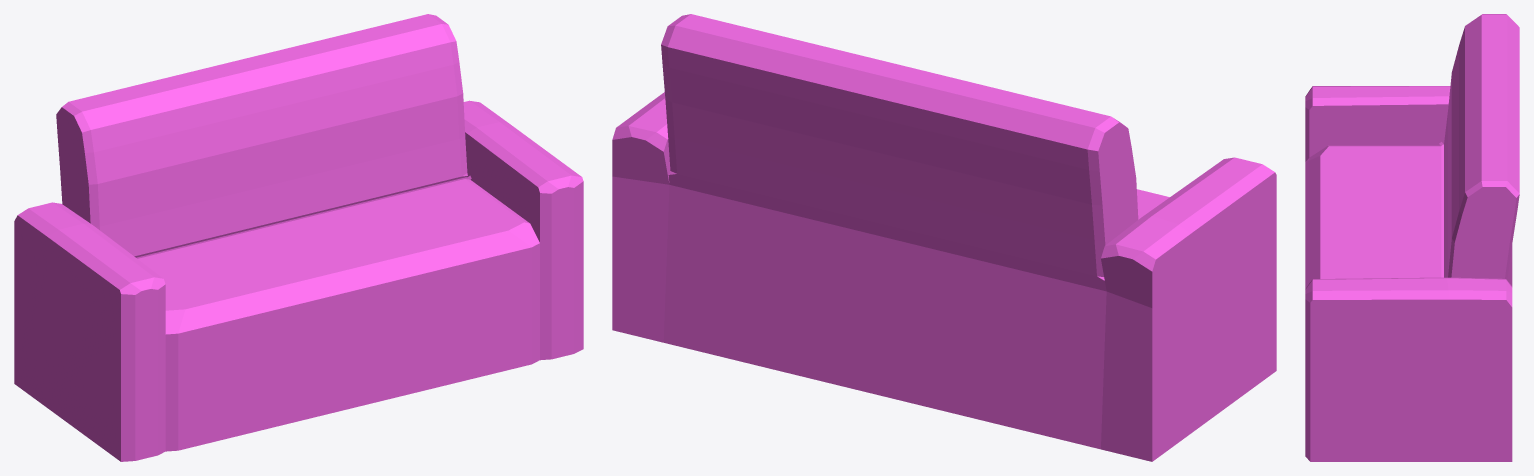
Rendered from couch.fbx.
3 views of the same model, side by side, from view 1: azimuth 30°, elevation 25°; view 2: azimuth 150°, elevation 25°; view 3: azimuth 270°, elevation 25° (orthographic). The views are drawn at different scales.
Visible parts, largest first — view 1: Cube; view 2: Cube; view 3: Cube.
Boxes of the visible parts, x1=… form: Cube: x1=14, y1=14, x2=583, y2=461; Cube: x1=612, y1=14, x2=1276, y2=461; Cube: x1=1305, y1=14, x2=1519, y2=461.
Size of the model in its own units: 233 by 131 by 99.
